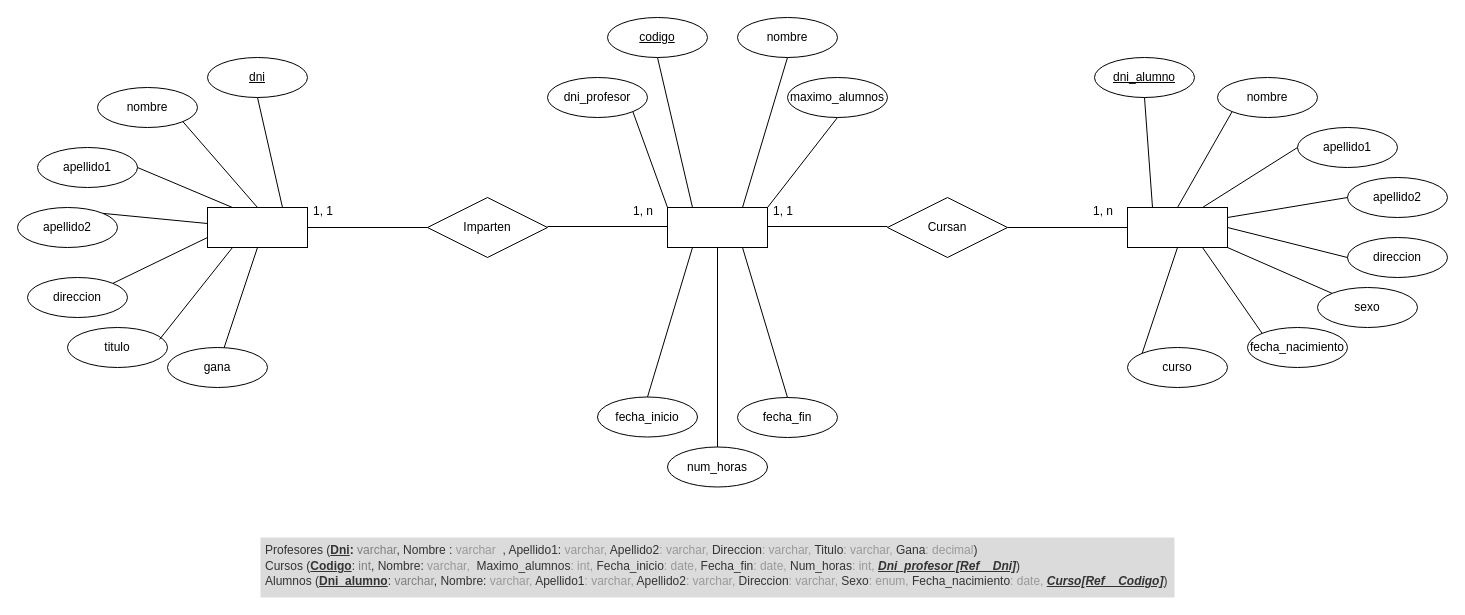
This 1465x615 diagram has some shape labels left out. Here are the shapes that lost their labels. From the top down, the box of each, then its label:
(206, 206, 308, 248): Profesores
(666, 206, 768, 248): Cursos
(1126, 206, 1228, 248): Alumnos
